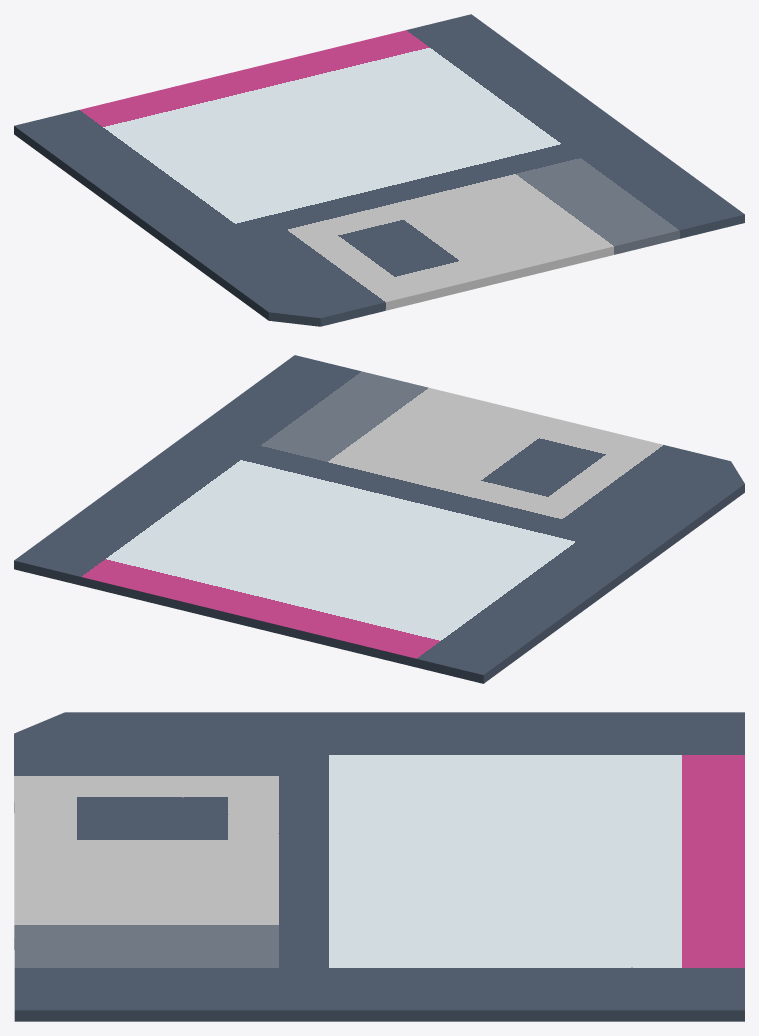
File: floppy.fbx
The picture shows the model from 3 angles, top to bottom: view 1: azimuth 30°, elevation 25°; view 2: azimuth 150°, elevation 25°; view 3: azimuth 270°, elevation 25°; orthographic projection. The views are drawn at different scales.
Visible parts, largest first — view 1: cuboid; view 2: cuboid; view 3: cuboid.
Part boxes in pixels (x1=…): cuboid: x1=14, y1=14, x2=744, y2=326; cuboid: x1=14, y1=355, x2=744, y2=683; cuboid: x1=14, y1=712, x2=744, y2=1021.
Size of the model in its own units: 87.5 by 1.56 by 90.71.
1 material, 1 textured.
